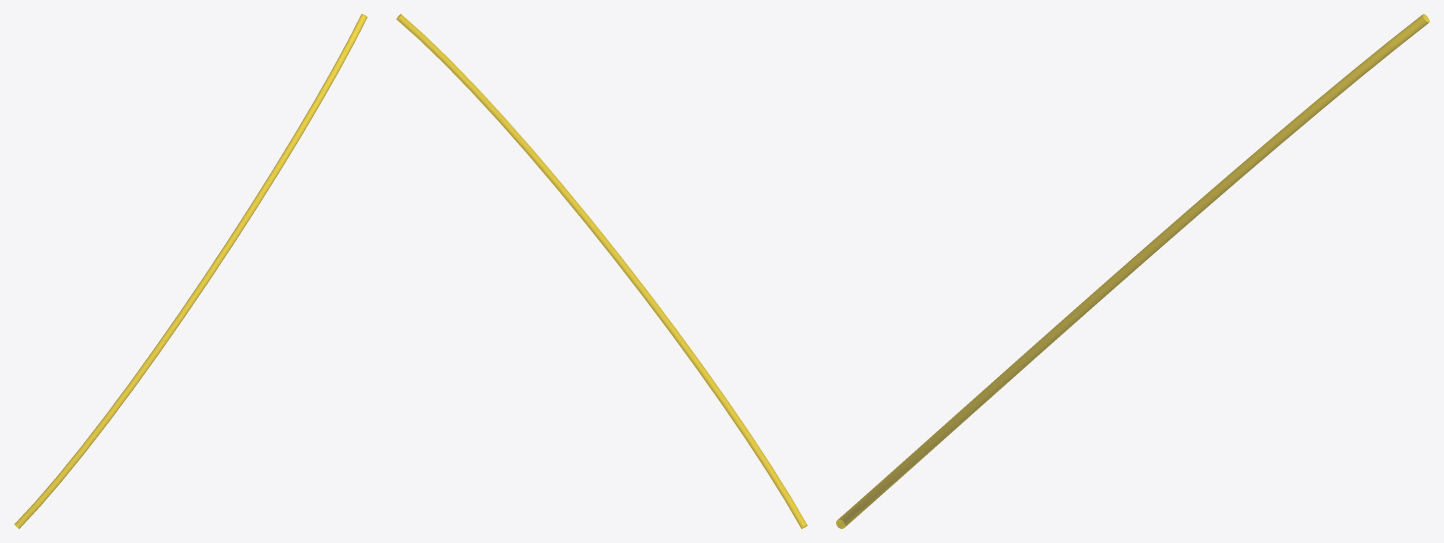
The model's file is Event_419990632_track_0.fbx.
3 renders of one model, left to right at view 1: azimuth 30°, elevation 25°; view 2: azimuth 150°, elevation 25°; view 3: azimuth 330°, elevation 25°, orthographic. The views are drawn at different scales.
Parts seen in each view (by area): view 1: Model; view 2: Model; view 3: Model.
Part boxes in pixels (box(x1,y1,x2,y2)): Model: box(14, 14, 367, 528); Model: box(396, 14, 807, 528); Model: box(836, 14, 1429, 528).
Size of the model in its own units: 2.46 by 2.62 by 0.3396.
